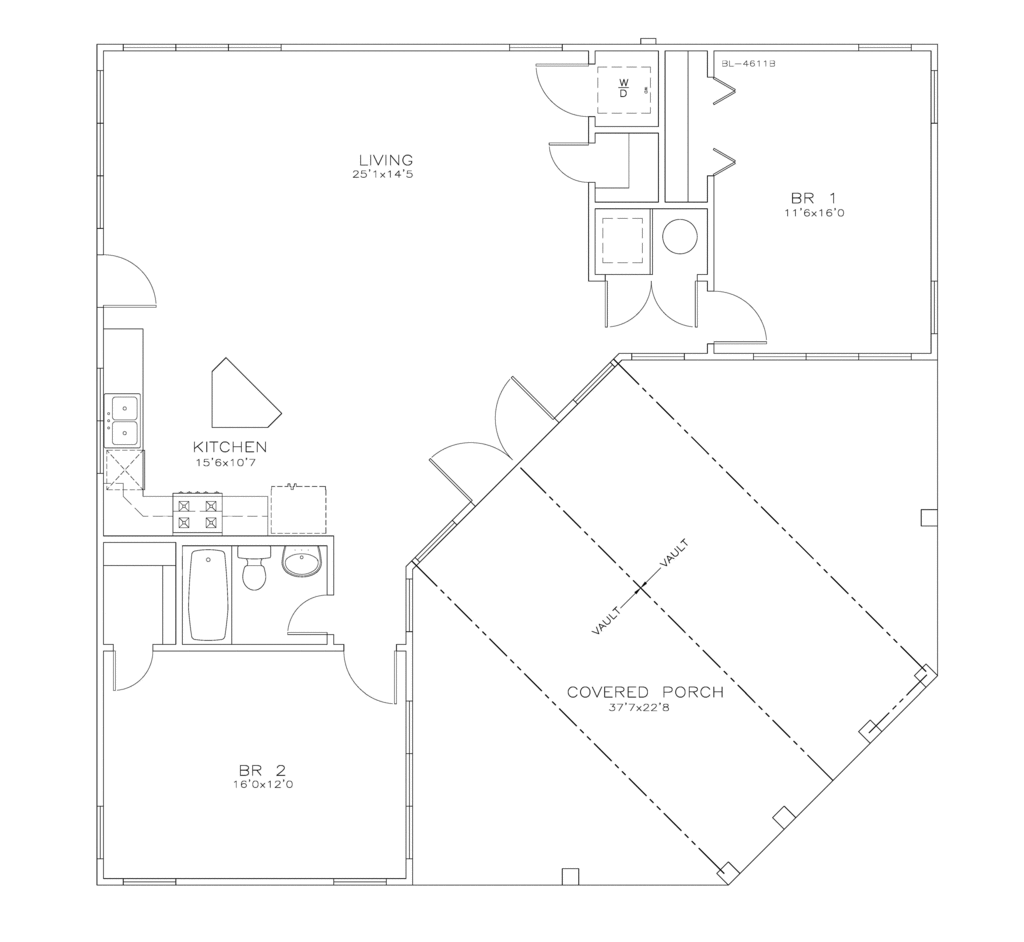door: (433, 374, 564, 504), (601, 280, 700, 329), (707, 289, 780, 346), (95, 253, 161, 314), (532, 59, 594, 123), (341, 644, 399, 712), (546, 139, 602, 187), (108, 647, 158, 697), (285, 591, 330, 643)
large_sink: (230, 544, 275, 595)
small_sink: (275, 544, 327, 584)
tub: (179, 543, 235, 647)
twin_sink: (103, 391, 145, 449)
windows: (115, 40, 290, 57), (91, 65, 108, 238), (925, 273, 942, 341), (93, 799, 110, 863), (927, 68, 943, 133)
